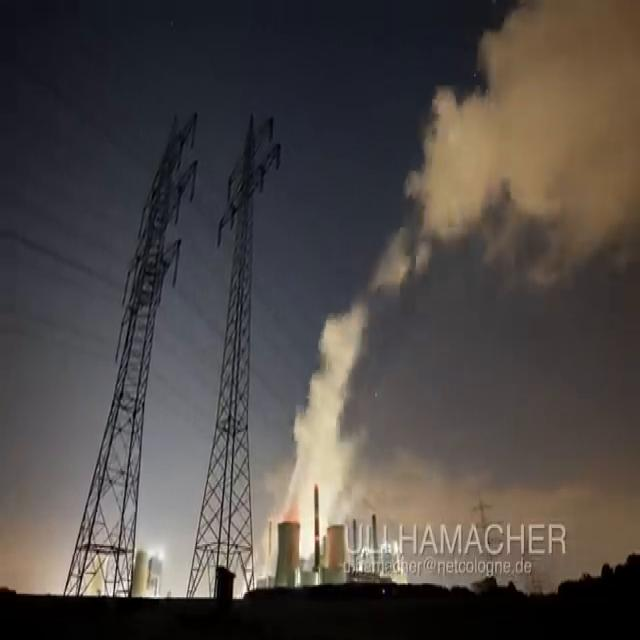smoke: (279, 311, 364, 556)
